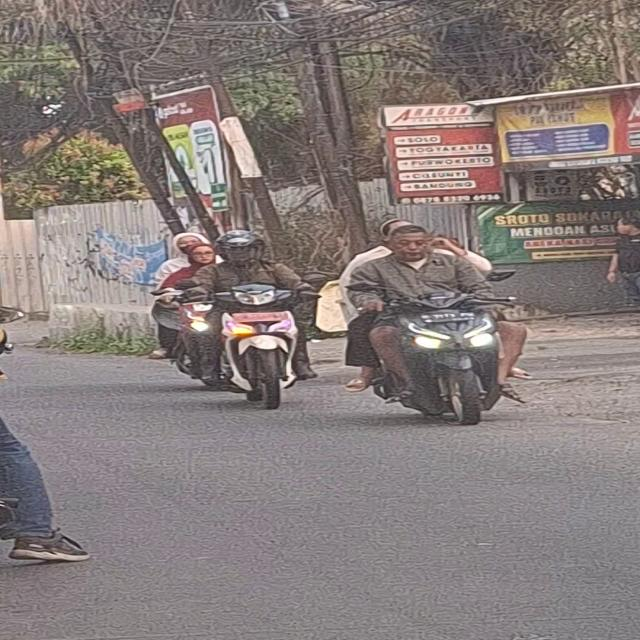WithHelmet: (157, 230, 321, 386)
WithoutHelmet: (334, 220, 542, 429), (144, 230, 233, 309)
